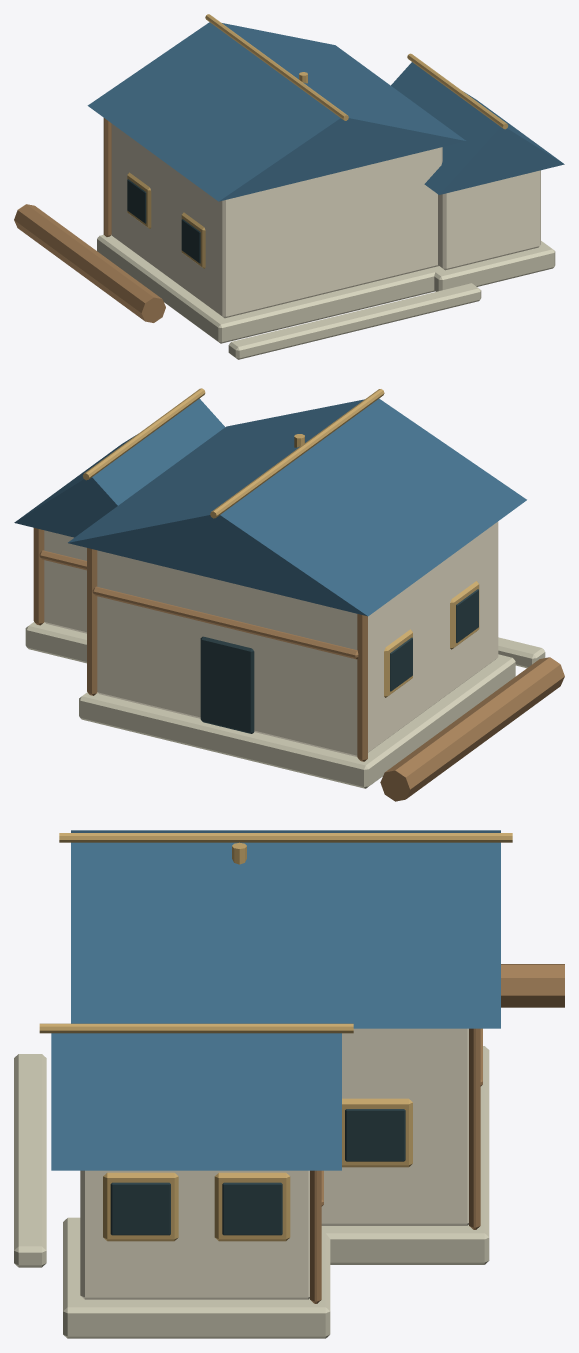
The model's file is level_08.glb.
3 views of the same model, one above another, from view 1: azimuth 30°, elevation 25°; view 2: azimuth 150°, elevation 25°; view 3: azimuth 270°, elevation 25° (orthographic). The views are drawn at different scales.
Parts seen in each view (by area): view 1: timber_yard — level 08; view 2: timber_yard — level 08; view 3: timber_yard — level 08.
Boxes of the visible parts, <box> form: timber_yard — level 08: <box>14,14,564,359</box>; timber_yard — level 08: <box>14,388,564,801</box>; timber_yard — level 08: <box>14,830,564,1338</box>.
Bounding box in the file's own units: 6.43 × 3.21 × 4.74.
